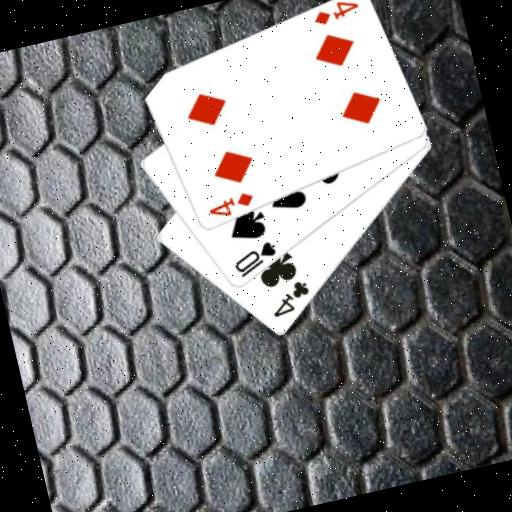10S: (227, 238, 282, 282)
4C: (264, 275, 316, 321)
4D: (203, 188, 258, 223), (308, 0, 362, 29)
